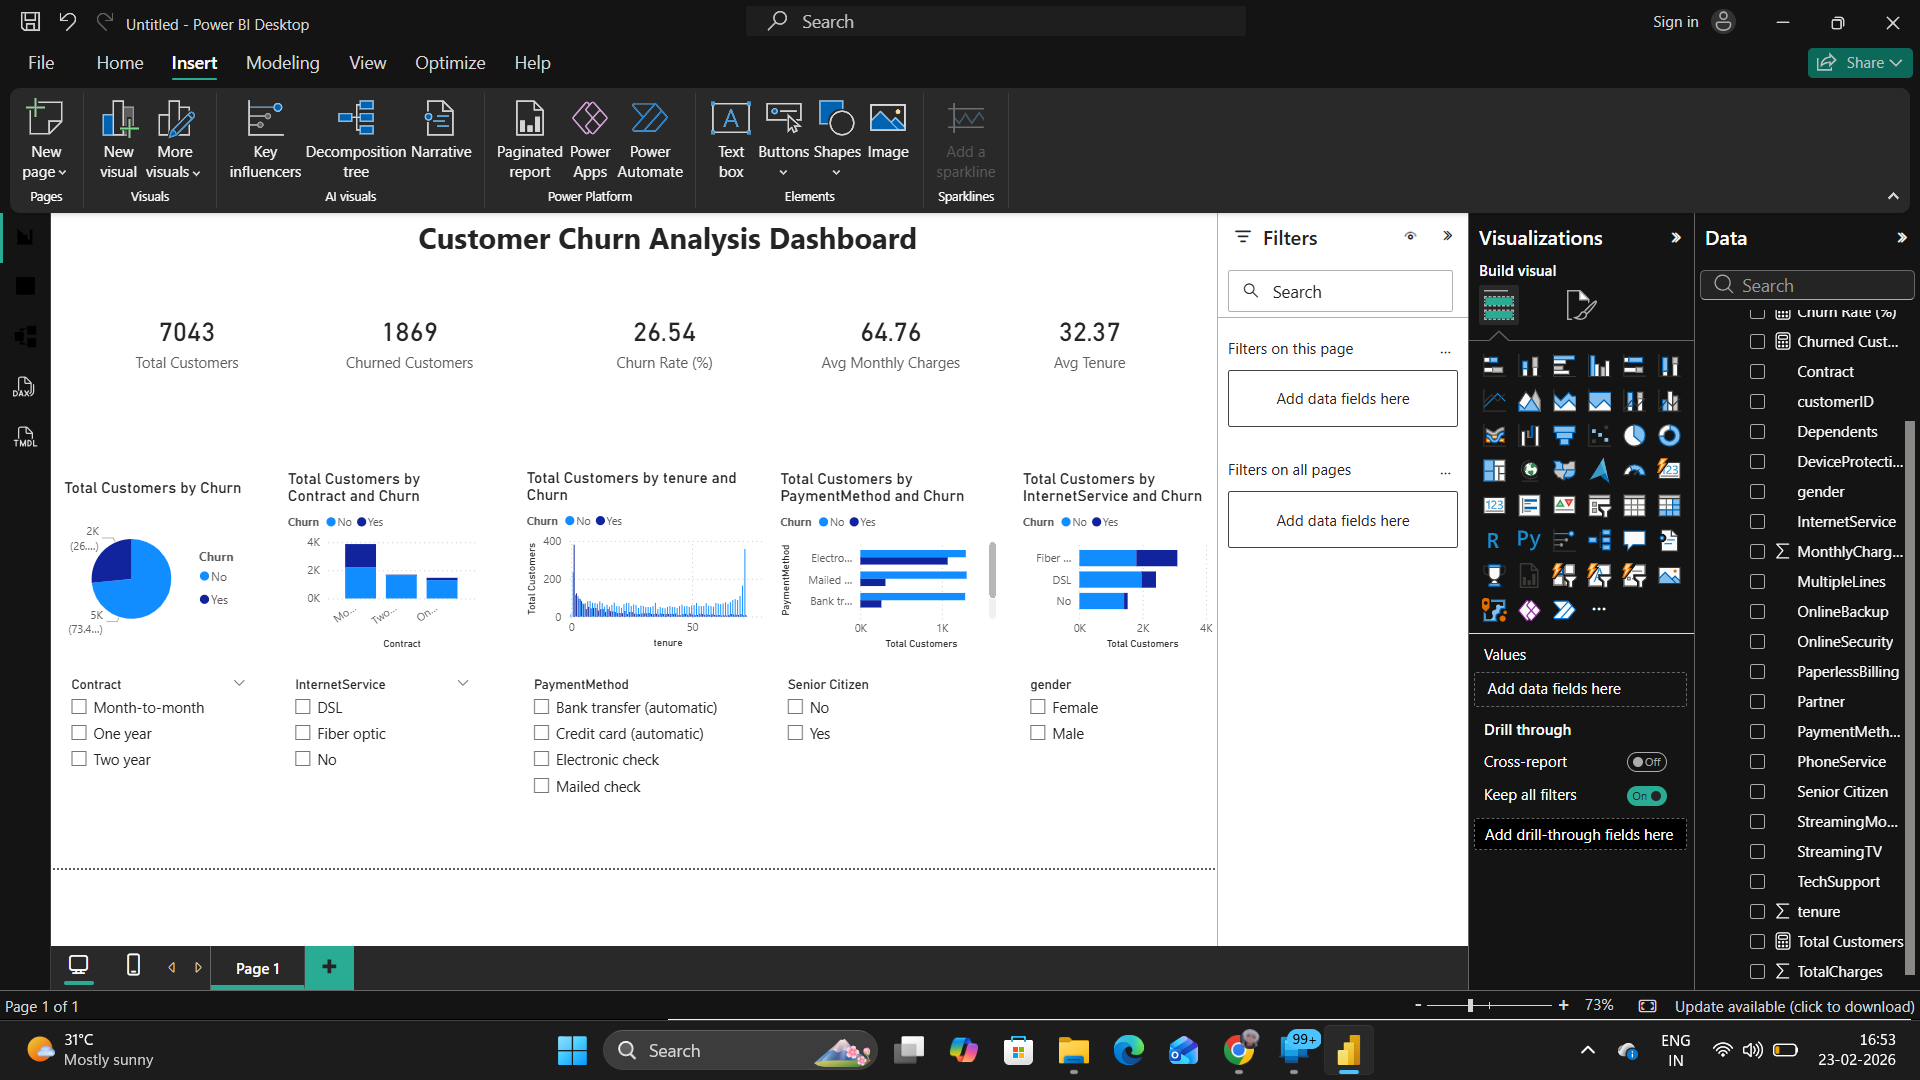

This screenshot's page, from the dashboard's own definition file:
{"tool":"powerbi","page":{"name":"Page 1","canvas":[1280,720],"ordinal":0},"visuals":[{"type":"card","fields":{"Values":["Telco_Churn.Total Customers"]},"box":[9.6,0,279.9,279.9],"z":0},{"type":"card","fields":{"Values":["Telco_Churn.Churned Customers"]},"box":[253.9,0,279.9,279.9],"z":1000},{"type":"card","fields":{"Values":["Telco_Churn.Churn Rate (%)"]},"box":[533.8,64.5,279.9,150.9],"z":2000},{"type":"card","fields":{"Values":["Telco_Churn.Avg Monthly Charges"]},"box":[782.2,0,279.9,279.9],"z":3000},{"type":"card","fields":{"Values":["Telco_Churn.Avg Tenure"]},"box":[1000.3,0,279.9,279.9],"z":4000},{"type":"pieChart","fields":{"Category":["Telco_Churn.Churn"],"Y":["Telco_Churn.Total Customers"]},"box":[9.8,291.2,216,202.9],"z":5000},{"type":"columnChart","fields":{"Category":["Telco_Churn.Contract"],"Series":["Telco_Churn.Churn"],"Y":["Telco_Churn.Total Customers"]},"box":[255.2,281.4,216,202.9],"z":6000},{"type":"clusteredColumnChart","fields":{"Category":["Telco_Churn.tenure"],"Y":["Telco_Churn.Total Customers"],"Series":["Telco_Churn.Churn"]},"box":[517.3,279.9,278.6,203.1],"z":7000},{"type":"clusteredBarChart","fields":{"Category":["Telco_Churn.PaymentMethod"],"Y":["Telco_Churn.Total Customers"],"Series":["Telco_Churn.Churn"]},"box":[795.9,281.3,247,203.1],"z":8000},{"type":"barChart","fields":{"Category":["Telco_Churn.InternetService"],"Y":["Telco_Churn.Total Customers"],"Series":["Telco_Churn.Churn"]},"box":[1062,281,218,203],"z":9000},{"type":"slicer","fields":{"Values":["Telco_Churn.Contract"]},"box":[10,504,216,203],"z":9001},{"type":"slicer","fields":{"Values":["Telco_Churn.InternetService"]},"box":[255,504,216,203],"z":9002},{"type":"slicer","fields":{"Values":["Telco_Churn.PaymentMethod"]},"box":[517,504,279,203],"z":9003},{"type":"slicer","fields":{"Values":["Telco_Churn.Senior Citizen"]},"box":[796,504,247,203],"z":9004},{"type":"slicer","fields":{"Values":["Telco_Churn.gender"]},"box":[1062,504,218,203],"z":9005},{"type":"textbox","box":[100.2,0,1154,81],"z":9006}]}

Visuals, with their boxes on the page's 1280x720 design canvas (x1, y1, x2, y2). These are canvas units, not pixel positions in the 1920x1080 screenshot, which may show the page scaled, cropped or inside an application window:
card - Telco_Churn.Total Customers: <region>10, 0, 290, 280</region>
card - Telco_Churn.Churned Customers: <region>254, 0, 534, 280</region>
card - Telco_Churn.Churn Rate (%): <region>534, 64, 814, 215</region>
card - Telco_Churn.Avg Monthly Charges: <region>782, 0, 1062, 280</region>
card - Telco_Churn.Avg Tenure: <region>1000, 0, 1280, 280</region>
pieChart - Telco_Churn.Churn x Telco_Churn.Total Customers: <region>10, 291, 226, 494</region>
columnChart - Telco_Churn.Contract x Telco_Churn.Churn: <region>255, 281, 471, 484</region>
clusteredColumnChart - Telco_Churn.tenure x Telco_Churn.Total Customers: <region>517, 280, 796, 483</region>
clusteredBarChart - Telco_Churn.PaymentMethod x Telco_Churn.Total Customers: <region>796, 281, 1043, 484</region>
barChart - Telco_Churn.InternetService x Telco_Churn.Total Customers: <region>1062, 281, 1280, 484</region>
slicer - Telco_Churn.Contract: <region>10, 504, 226, 707</region>
slicer - Telco_Churn.InternetService: <region>255, 504, 471, 707</region>
slicer - Telco_Churn.PaymentMethod: <region>517, 504, 796, 707</region>
slicer - Telco_Churn.Senior Citizen: <region>796, 504, 1043, 707</region>
slicer - Telco_Churn.gender: <region>1062, 504, 1280, 707</region>
textbox: <region>100, 0, 1254, 81</region>
